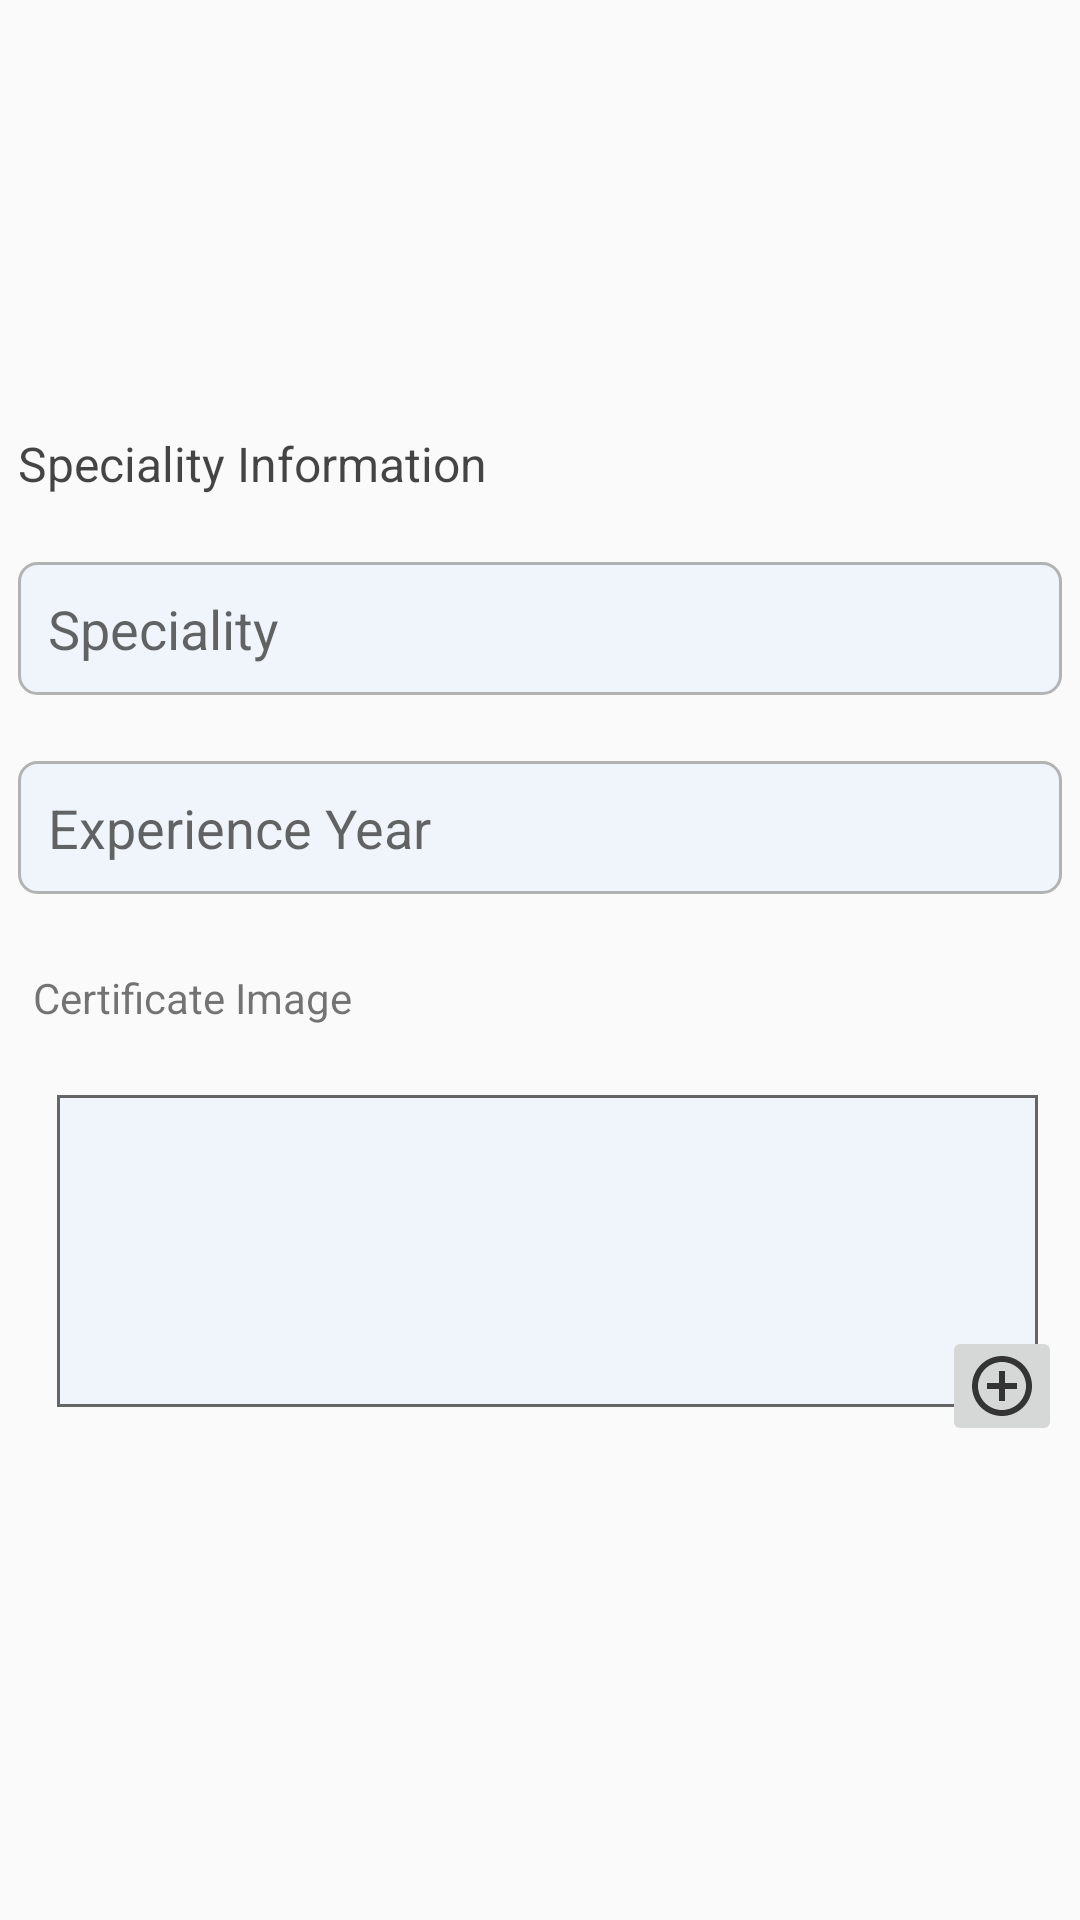

Icon bounding boxes for this 1080px×1920px phone screenshot, format (x1, y1, x2, y2):
select certificate Image: (942, 1326, 1050, 1428)
